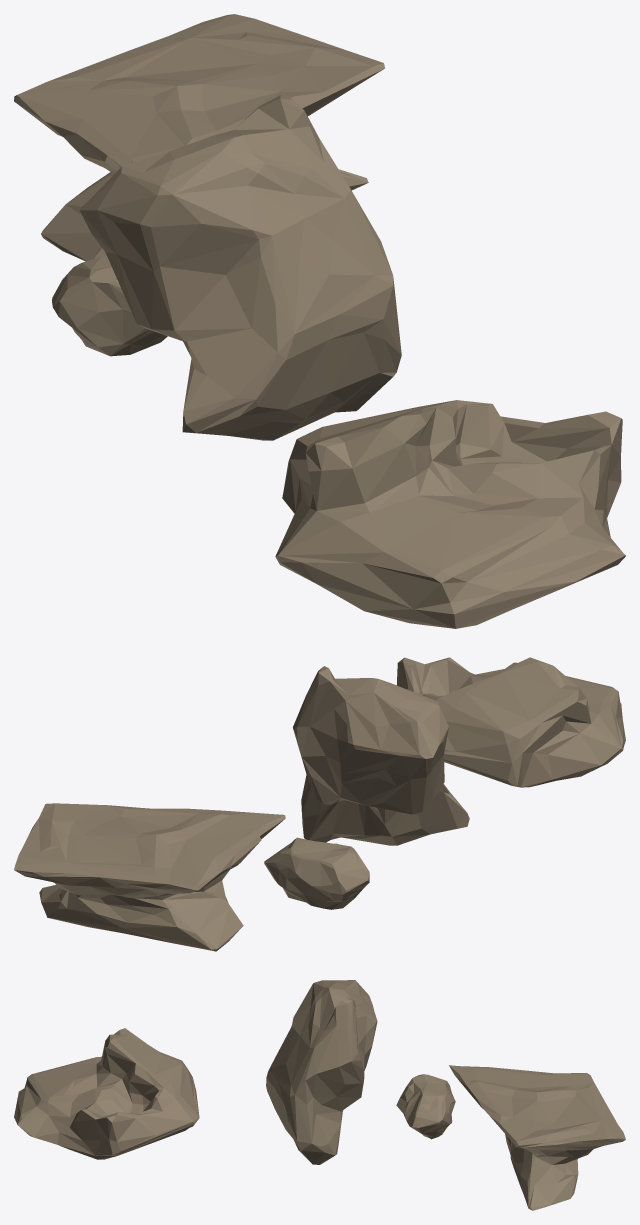
Rendered from mod_rock_batch.fbx.
3 views of the same model, one above another, from view 1: azimuth 30°, elevation 25°; view 2: azimuth 150°, elevation 25°; view 3: azimuth 270°, elevation 25° (orthographic). The views are drawn at different scales.
Parts seen in each view (by area): view 1: pPlatonic1, pPlatonic3, pPlatonic4, pPlatonic2; view 2: pPlatonic4, pPlatonic1, pPlatonic3, pPlatonic2; view 3: pPlatonic3, pPlatonic1, pPlatonic4, pPlatonic2.
Boxes of the visible parts, box(x1,y1,x2,y2) form: pPlatonic1: box(79, 95, 401, 440); pPlatonic3: box(275, 400, 625, 628); pPlatonic4: box(14, 14, 384, 261); pPlatonic2: box(52, 255, 167, 356); pPlatonic4: box(14, 803, 285, 951); pPlatonic1: box(293, 666, 469, 845); pPlatonic3: box(397, 657, 625, 787); pPlatonic2: box(264, 837, 369, 909); pPlatonic3: box(14, 1028, 199, 1159); pPlatonic1: box(266, 980, 377, 1164); pPlatonic4: box(449, 1065, 625, 1210); pPlatonic2: box(396, 1074, 455, 1139).
Bounding box in the file's own units: 9.52 × 5.68 × 19.44.
